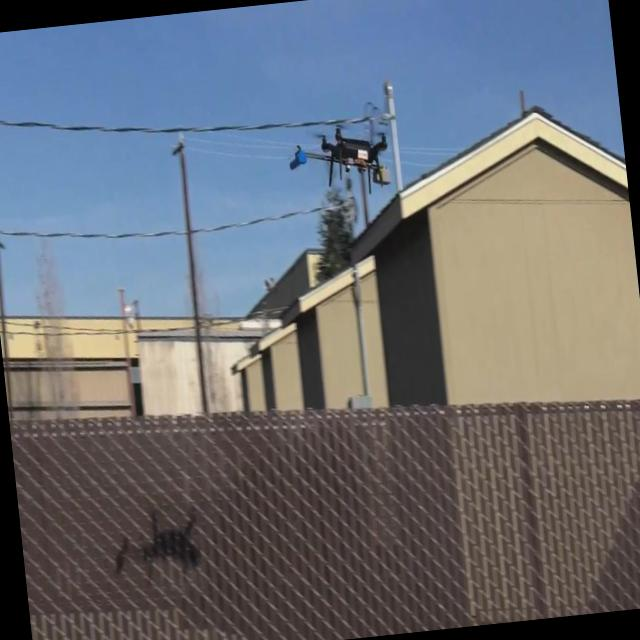drone: (286, 125, 392, 203)
